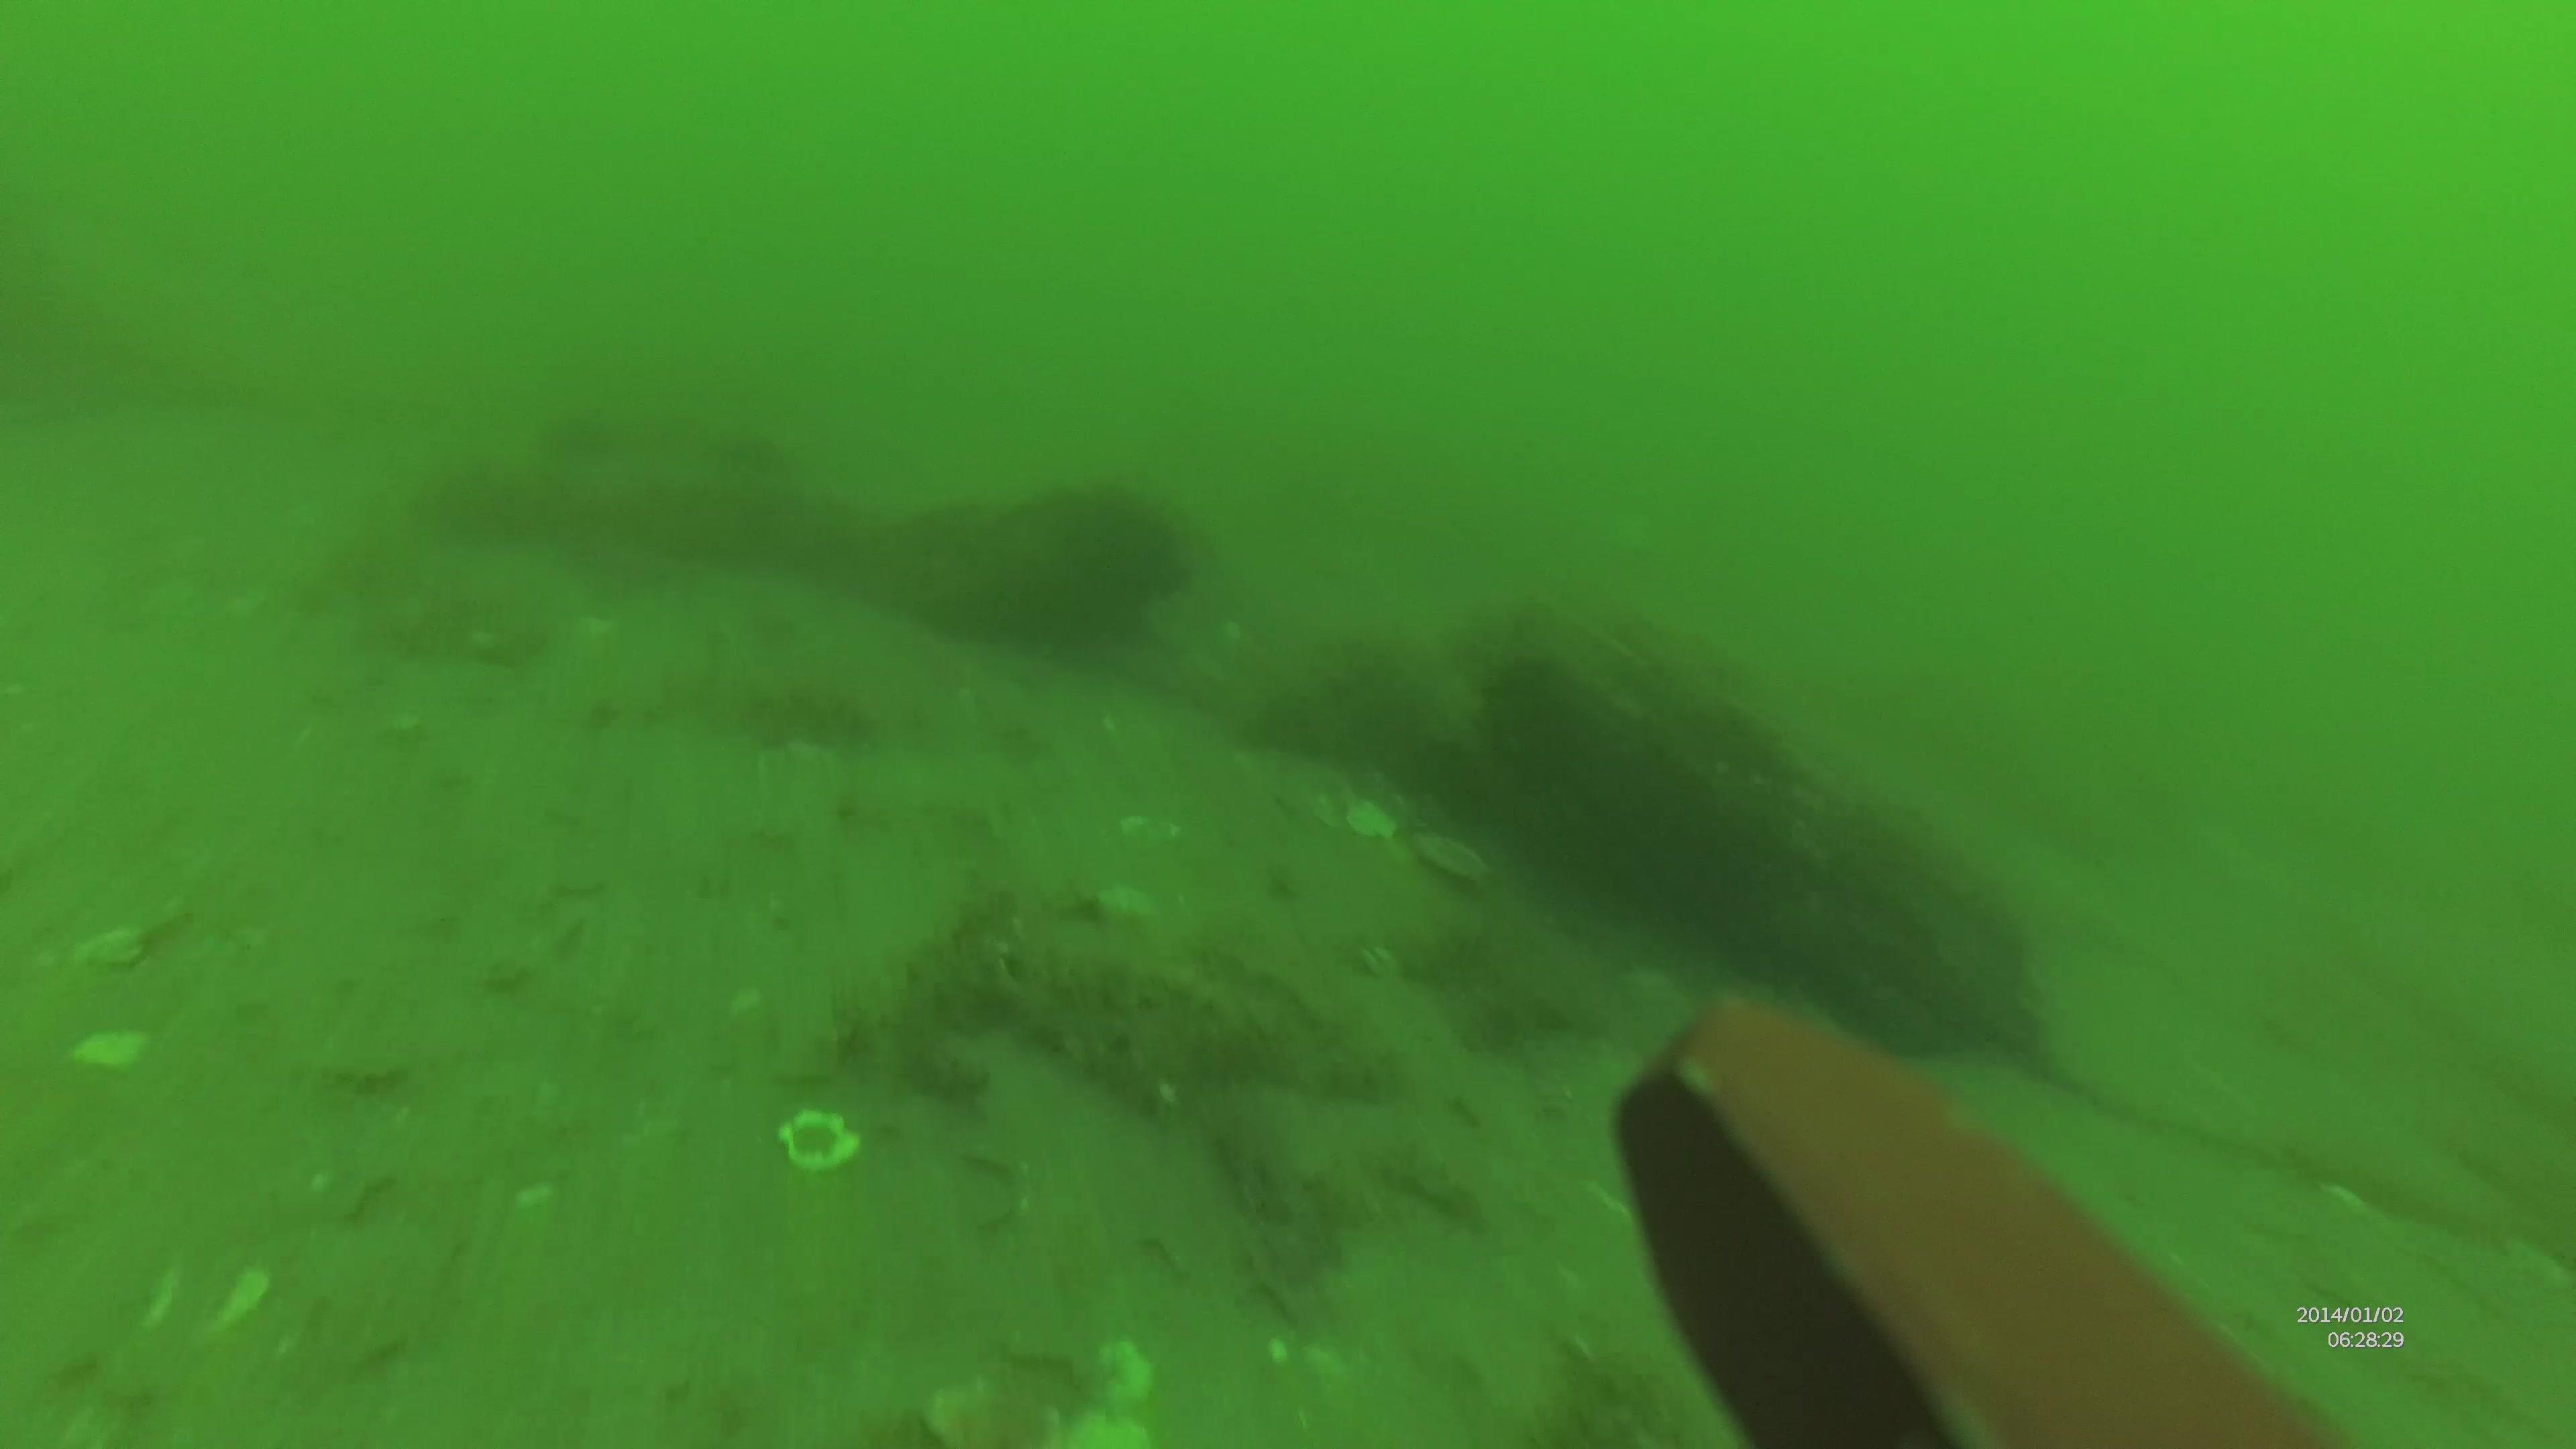holothurian: (954, 927, 1375, 1129)
